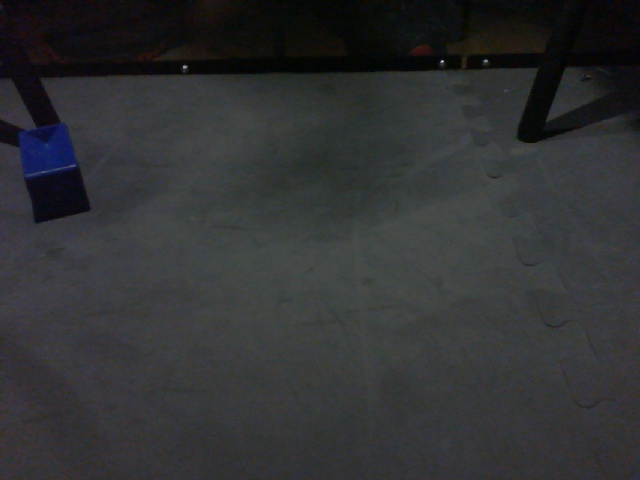BlueSample: (13, 121, 83, 216)
